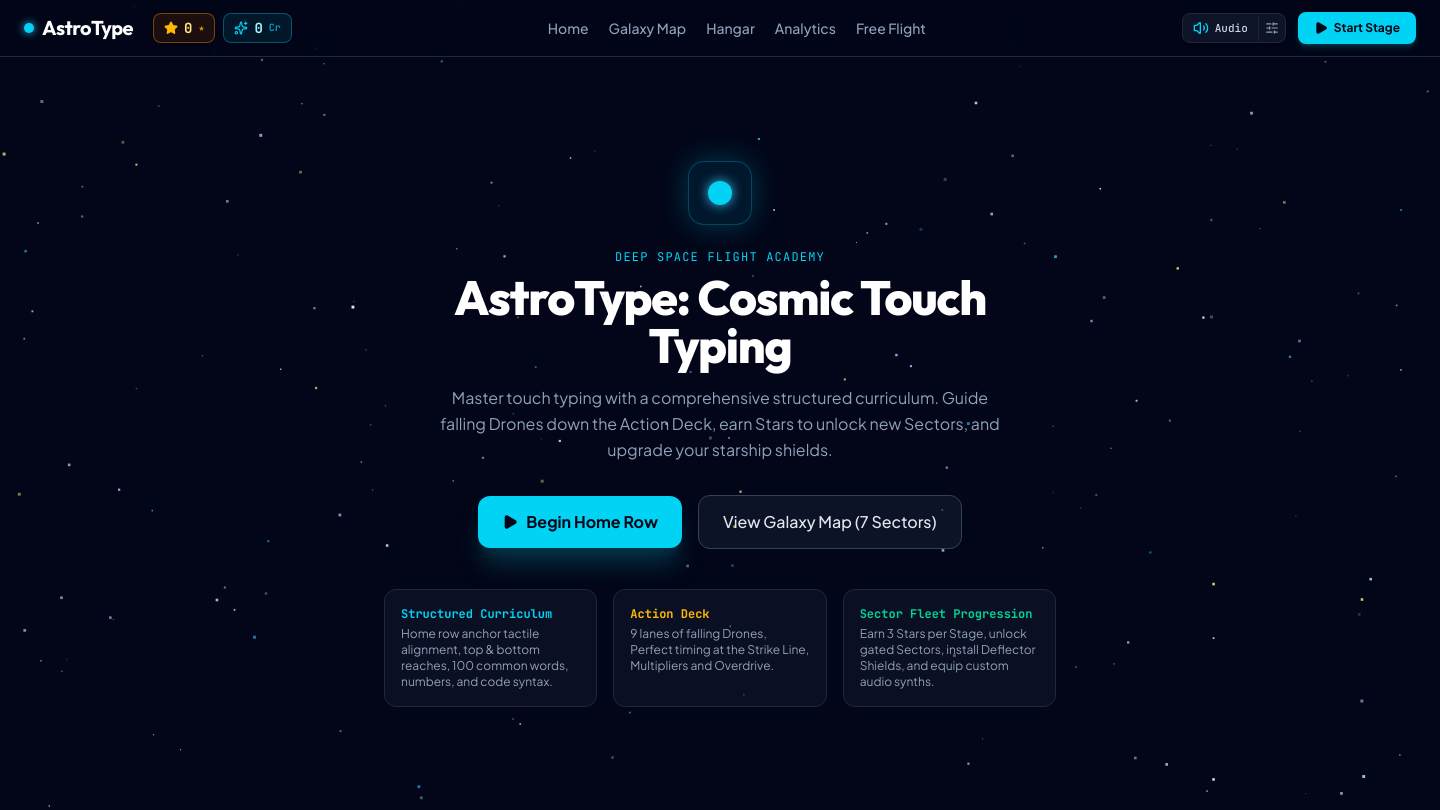
Test: the Back button of a menu › Hangar opened from Academy Home reads "Back to Academy Home" and goes back there
The width and height of the screenshot is (1440, 810).
Click the button "Hangar".
click(730, 28)  # box [706, 18, 755, 38]
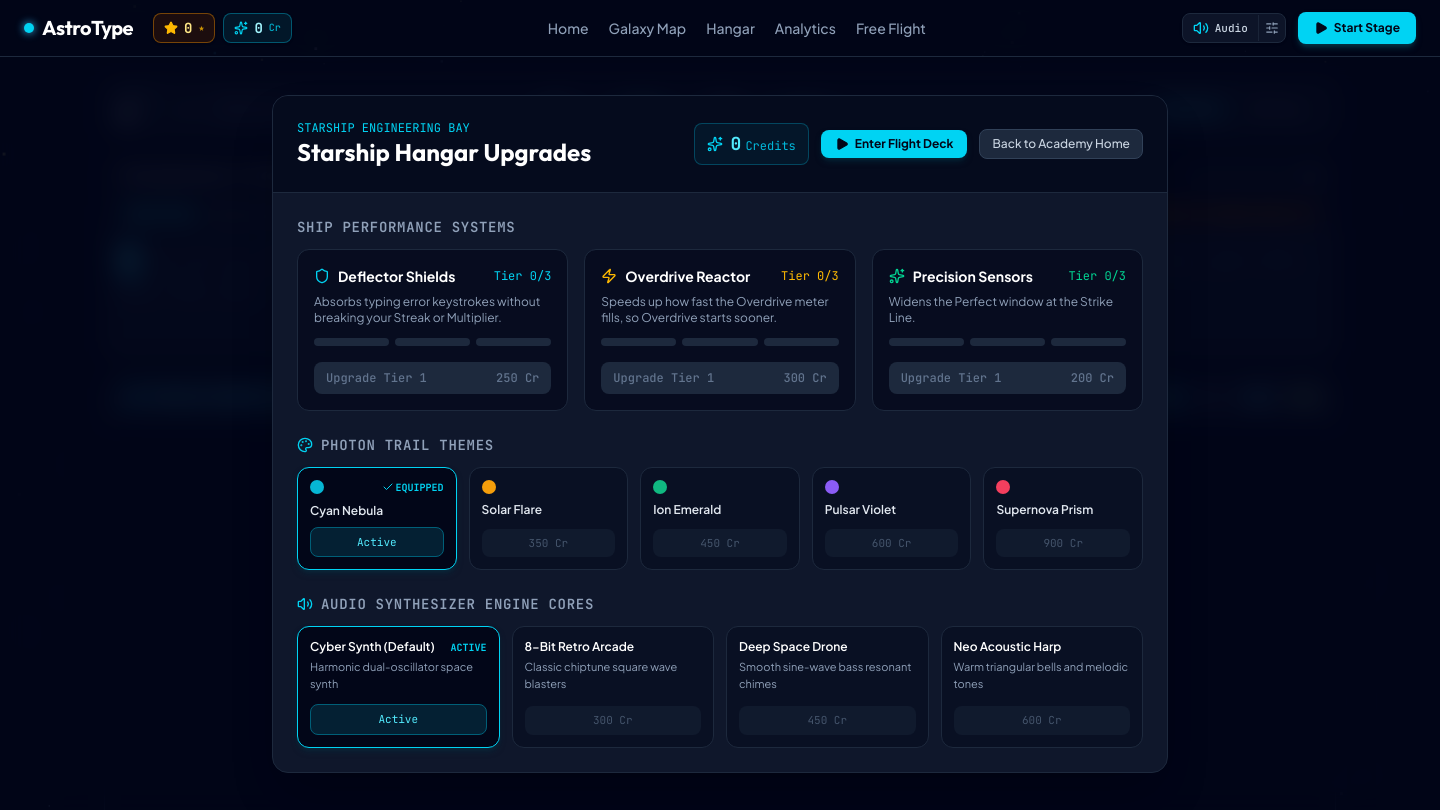
Expected: the heading "Starship Hangar Upgrades" is shown, [297, 136, 591, 168]
Expected: the button "Back to Academy Home" is shown
Click the button "Back to Academy Home".
click(1061, 144)  # box [980, 128, 1143, 158]
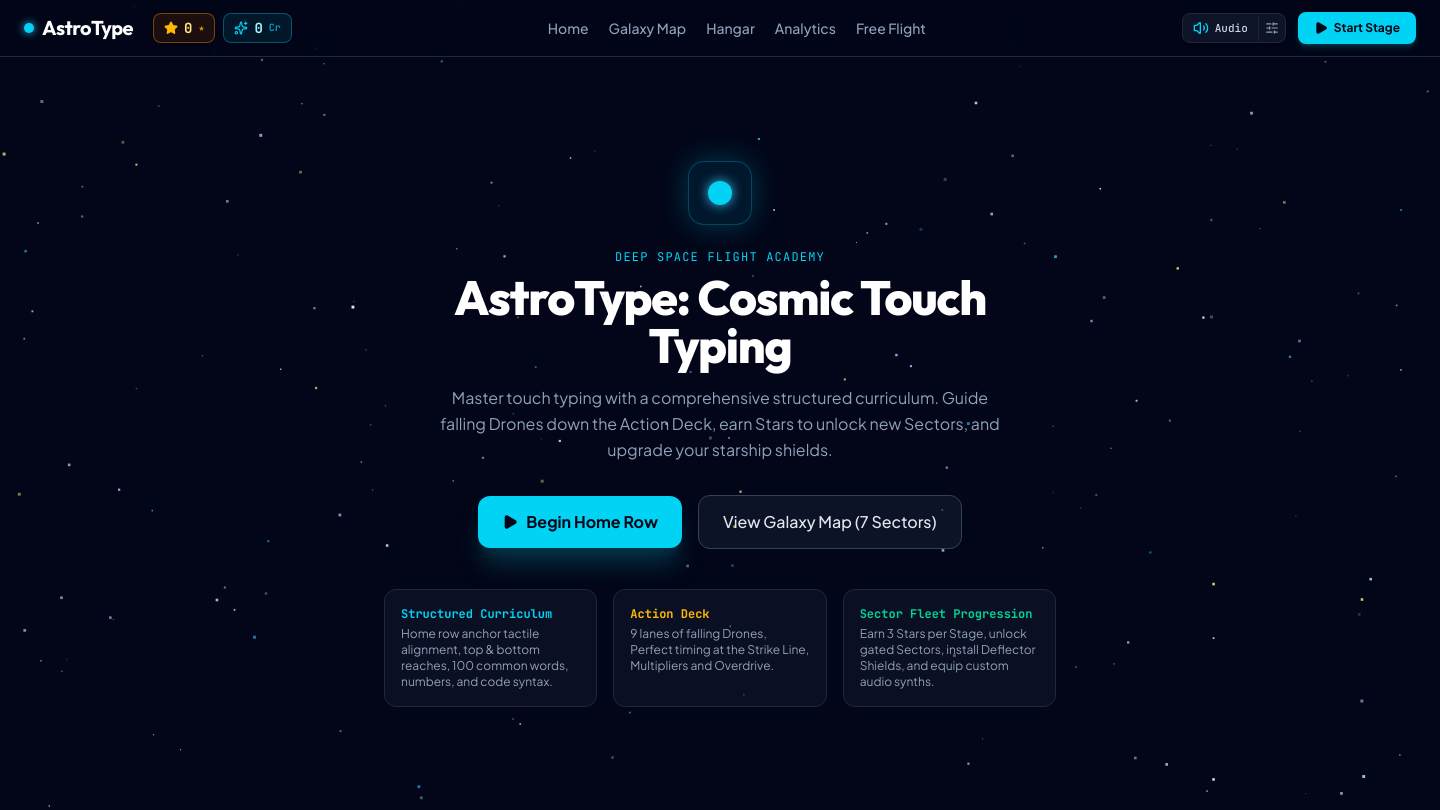
Expected: the heading "Starship Hangar Upgrades" is gone
Expected: the heading "AstroType: Cosmic Touch Typing" is shown, [454, 266, 986, 374]
